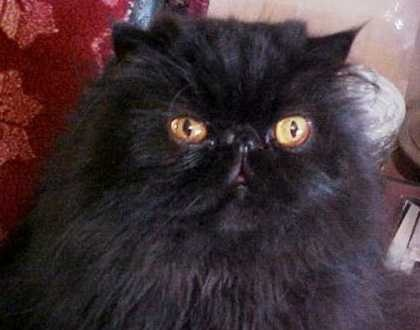Cat: (38, 17, 403, 329)
